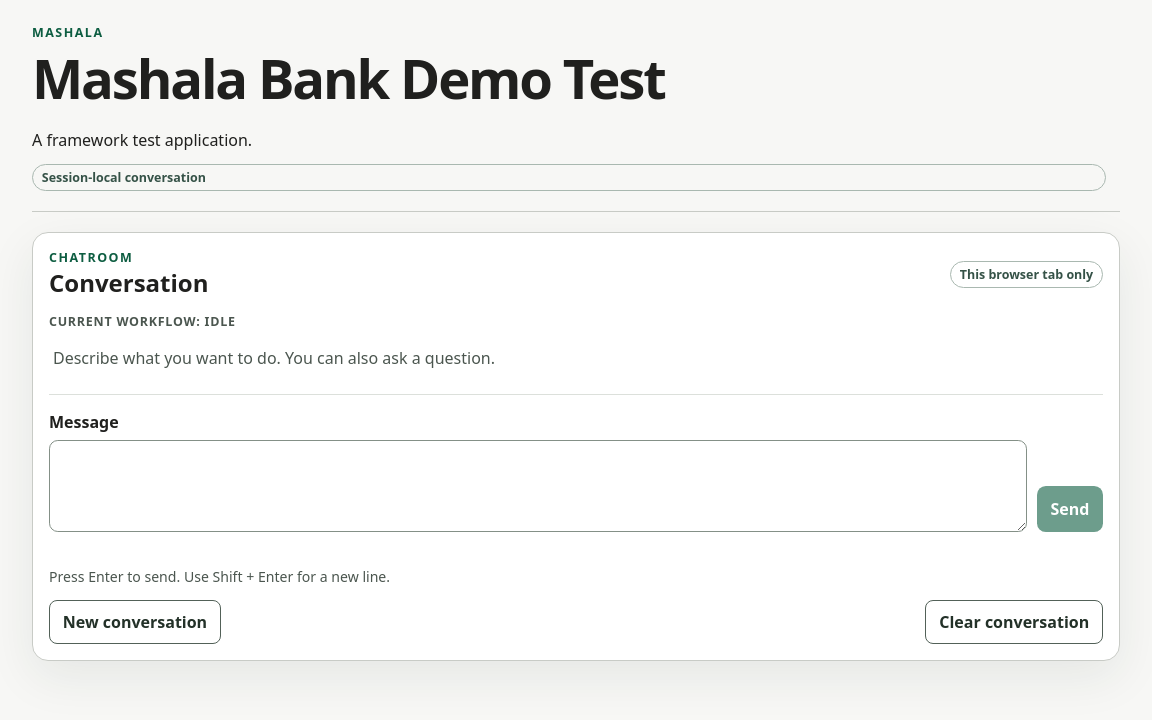
Test: MashalaChat canonical event handling › rejects an undeclared raw route ID without rendering a form
Type "do something invented" into the text box labelled "Message" at coordinates (538, 486), box [49,440,1026,532]
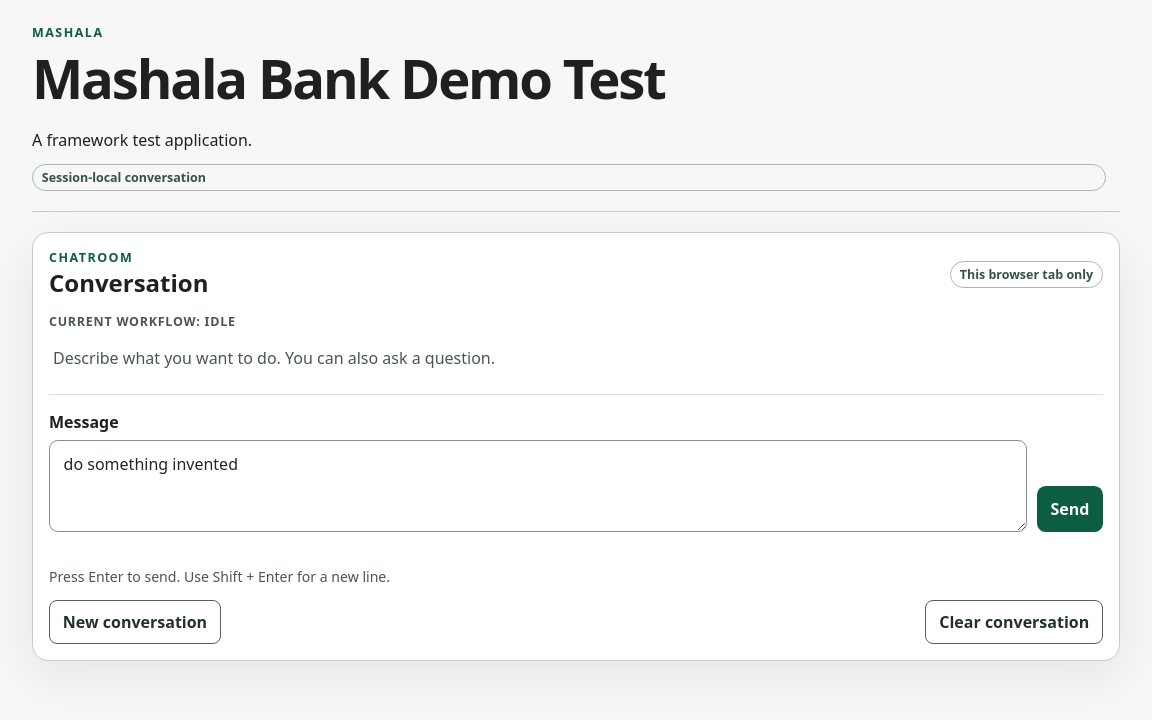
Click the button "Send" at coordinates (1070, 509), box [1037,486,1103,532]
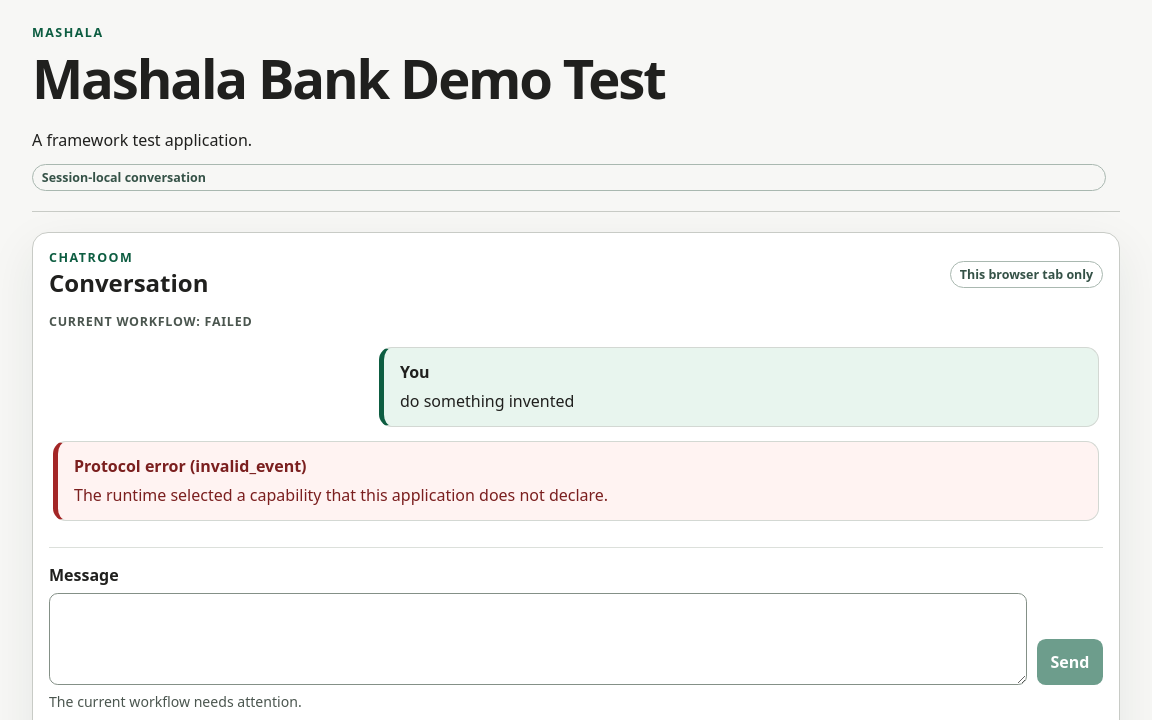
Expected: the message labelled "Protocol error" shows "does not declare", [74,484,608,506]
